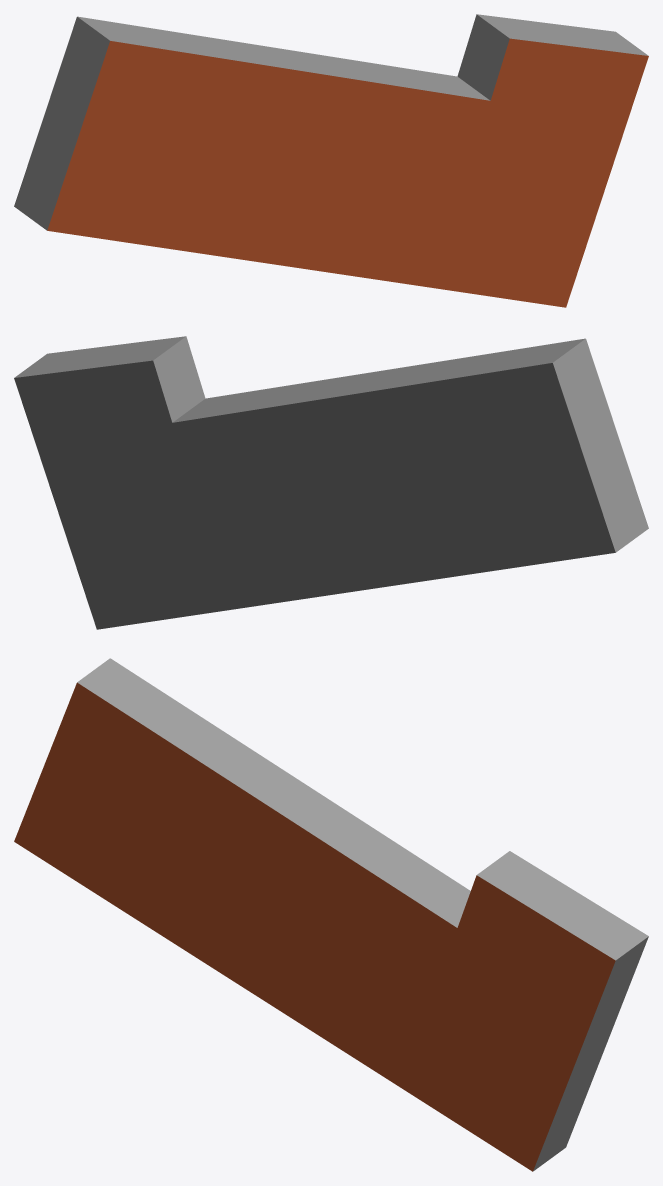
The model's file is construction_0079_assumed_A_Estufa_h6m.obj.
The picture shows the model from 3 angles, top to bottom: view 1: azimuth 30°, elevation 25°; view 2: azimuth 150°, elevation 25°; view 3: azimuth 330°, elevation 25°; orthographic projection.
Visible parts, largest first — view 1: construction_0079_assumed_A_Estufa; view 2: construction_0079_assumed_A_Estufa; view 3: construction_0079_assumed_A_Estufa.
Boxes of the visible parts, x1=… form: construction_0079_assumed_A_Estufa: x1=14, y1=14, x2=648, y2=307; construction_0079_assumed_A_Estufa: x1=14, y1=336, x2=648, y2=629; construction_0079_assumed_A_Estufa: x1=14, y1=658, x2=648, y2=1171.
Bounding box in the file's own units: 62.75 × 37.68 × 6.
